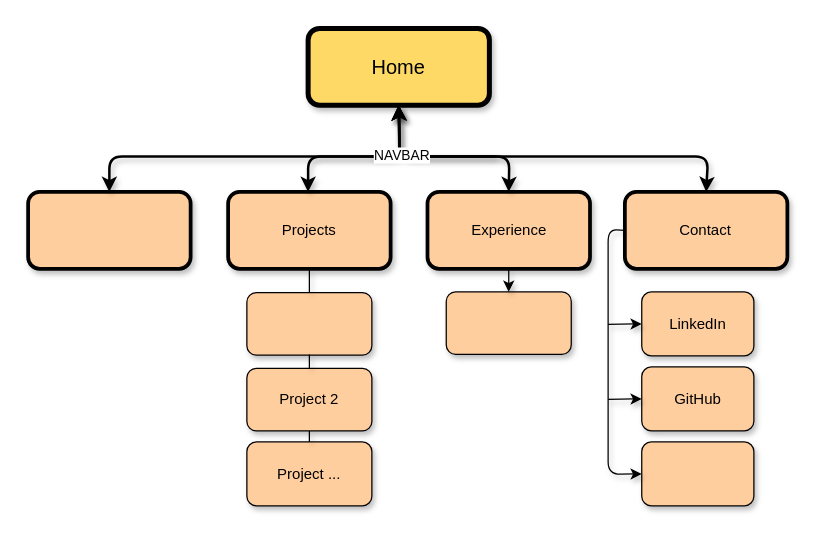
The diagram is 819 pixels wide and 538 high, and some of its shapes have lost their labels. Here are the shapes that lost their labels. From the top down, the centre of each, then its label:
(x=110, y=231): About
(x=310, y=325): Project 1
(x=509, y=324): Resume
(x=698, y=475): Email
